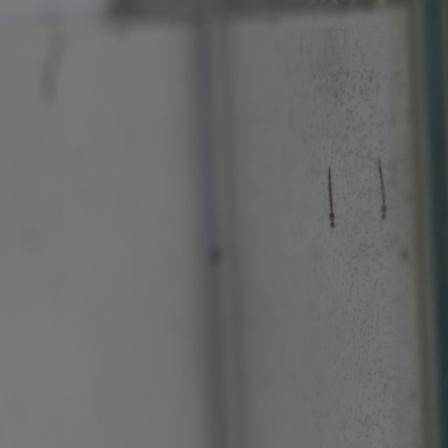Jentik-Nyamuk: (322, 166, 341, 232)
